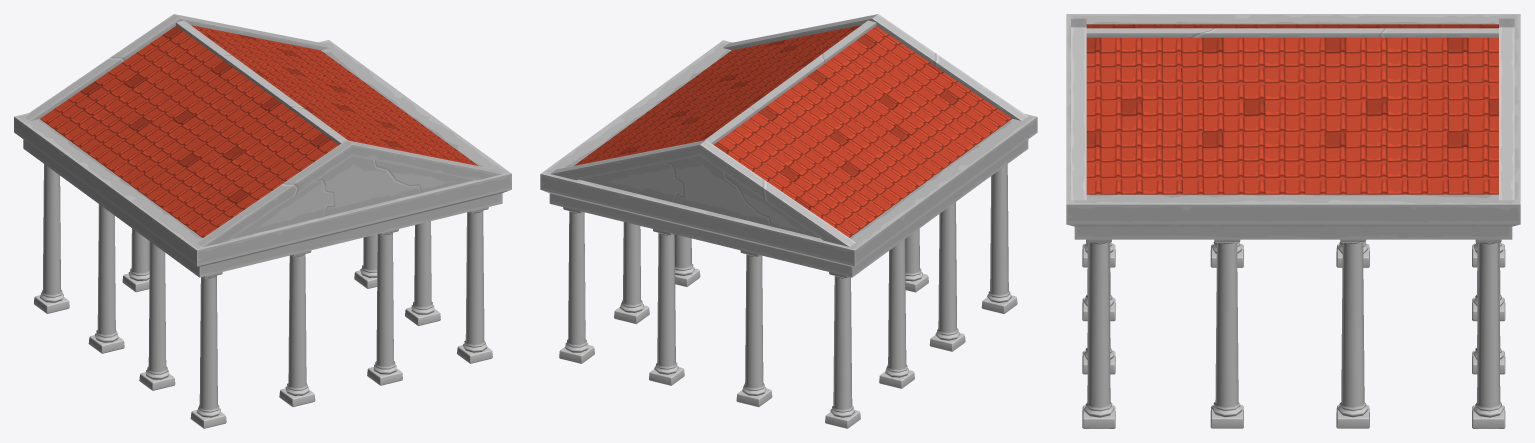
File: Temple1.fbx
The picture shows the model from 3 angles, left to right: view 1: azimuth 30°, elevation 25°; view 2: azimuth 150°, elevation 25°; view 3: azimuth 270°, elevation 25°; orthographic projection. The views are drawn at different scales.
Parts seen in each view (by area): view 1: Temple1; view 2: Temple1; view 3: Temple1.
Part boxes in pixels (x1,y1,x2,y2): Temple1: (14,14,511,428); Temple1: (540,14,1037,428); Temple1: (1066,14,1520,428).
Bounding box in the file's own units: 1574 × 1208 × 1585.
